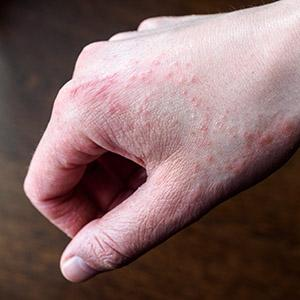Diseased: (49, 63, 275, 229)
